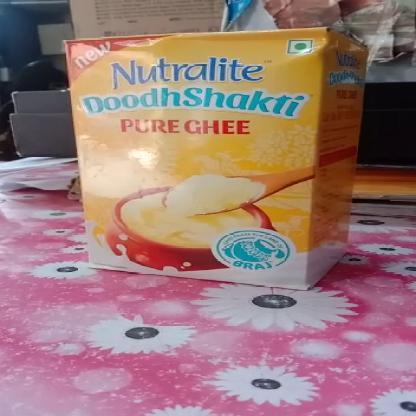Nutralite DOODHSHAKTHI PURE GHEE 1L: (87, 38, 337, 270)
